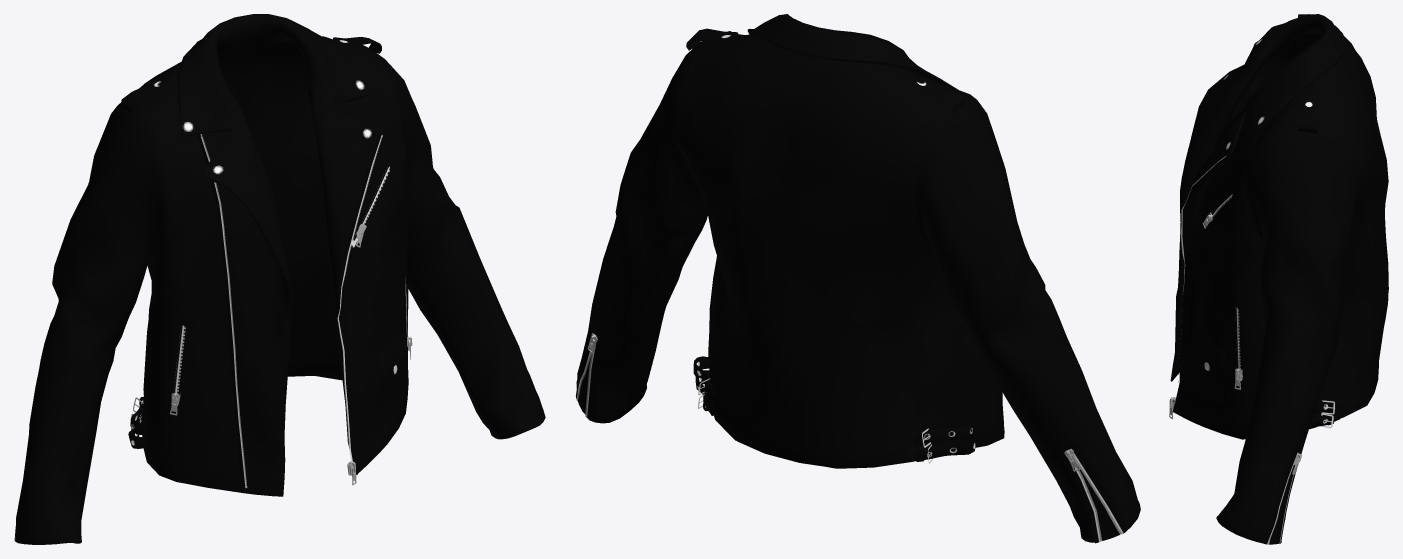
3 renders of one model, left to right at view 1: azimuth 30°, elevation 25°; view 2: azimuth 150°, elevation 25°; view 3: azimuth 270°, elevation 25°, orthographic. The views are drawn at different scales.
Visible parts, largest first — view 1: Jaicket_main_lp, Chian_Side, pPlane4, polySurface21, polySurface37; view 2: Jaicket_main_lp, polySurface21, Straps3, Straps2, pPlane15, pPlane14; view 3: Jaicket_main_lp, polySurface37, polySurface21, pPlane4, pPlane7, pPlane13, Straps1.
Boxes of the visible parts, x1,y1,x2,y2 form: Jaicket_main_lp: (15, 14, 545, 544); Chian_Side: (197, 134, 247, 488); pPlane4: (337, 135, 382, 478); polySurface21: (121, 37, 381, 113); polySurface37: (376, 333, 407, 377); Jaicket_main_lp: (577, 14, 1140, 542); polySurface21: (686, 28, 964, 113); Straps3: (903, 435, 975, 461); Straps2: (901, 419, 972, 443); pPlane15: (1069, 447, 1126, 534); pPlane14: (1062, 450, 1102, 543); Jaicket_main_lp: (1170, 14, 1388, 544); polySurface37: (1191, 334, 1225, 372); polySurface21: (1297, 14, 1318, 133); pPlane4: (1172, 155, 1226, 412); pPlane7: (1234, 307, 1242, 380); pPlane13: (1265, 452, 1298, 544); Straps1: (1309, 409, 1341, 428).
Size of the model in its own units: 8.69 by 7.12 by 3.44.
4 materials, 3 textured.
